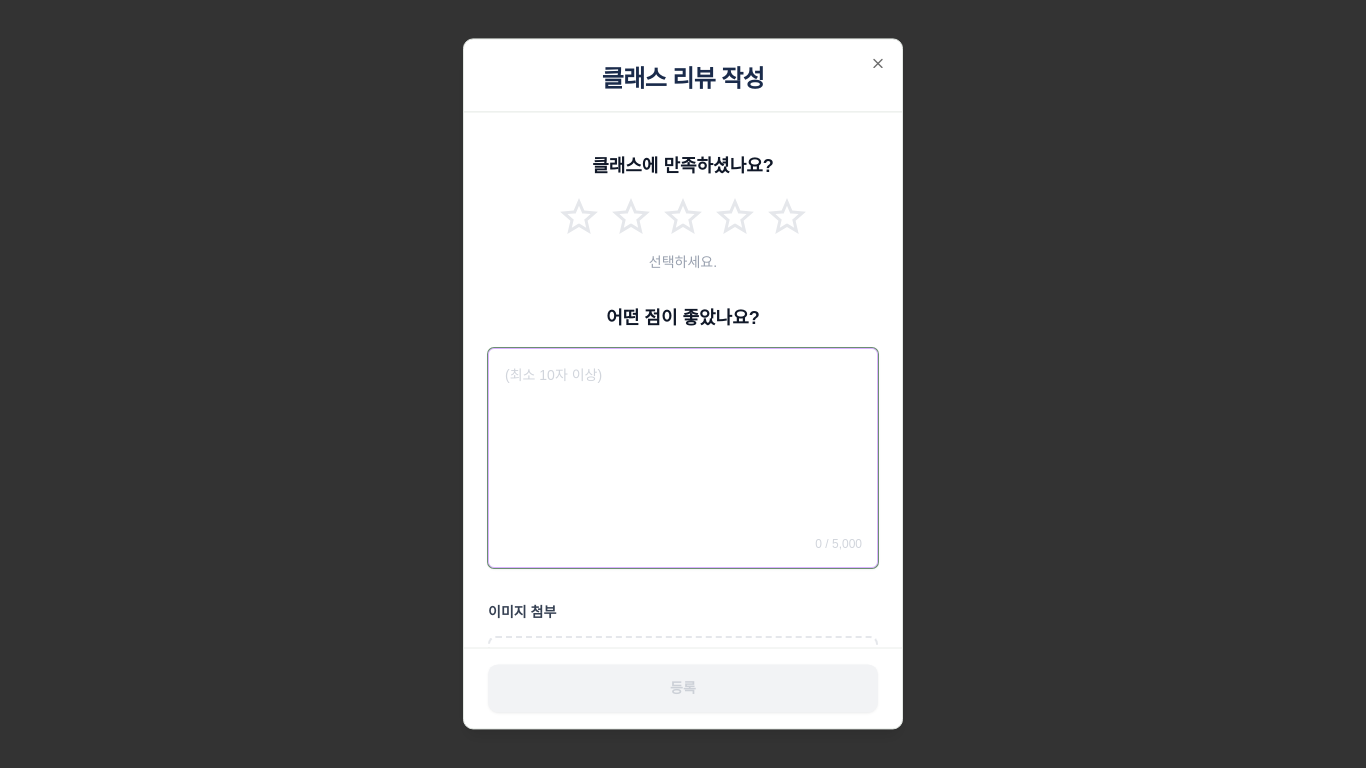
Test: MyReviewModal › 1. 별점이 반개씩 입력이 되는가?
The image size is (1366, 768).
expect the text "선택하세요." is shown: met, box x1=649 y1=254 x2=717 y2=270
Click the 1st icon with class "cursor-pointer" at (579, 216), box x1=555 y1=192 x2=603 y2=240
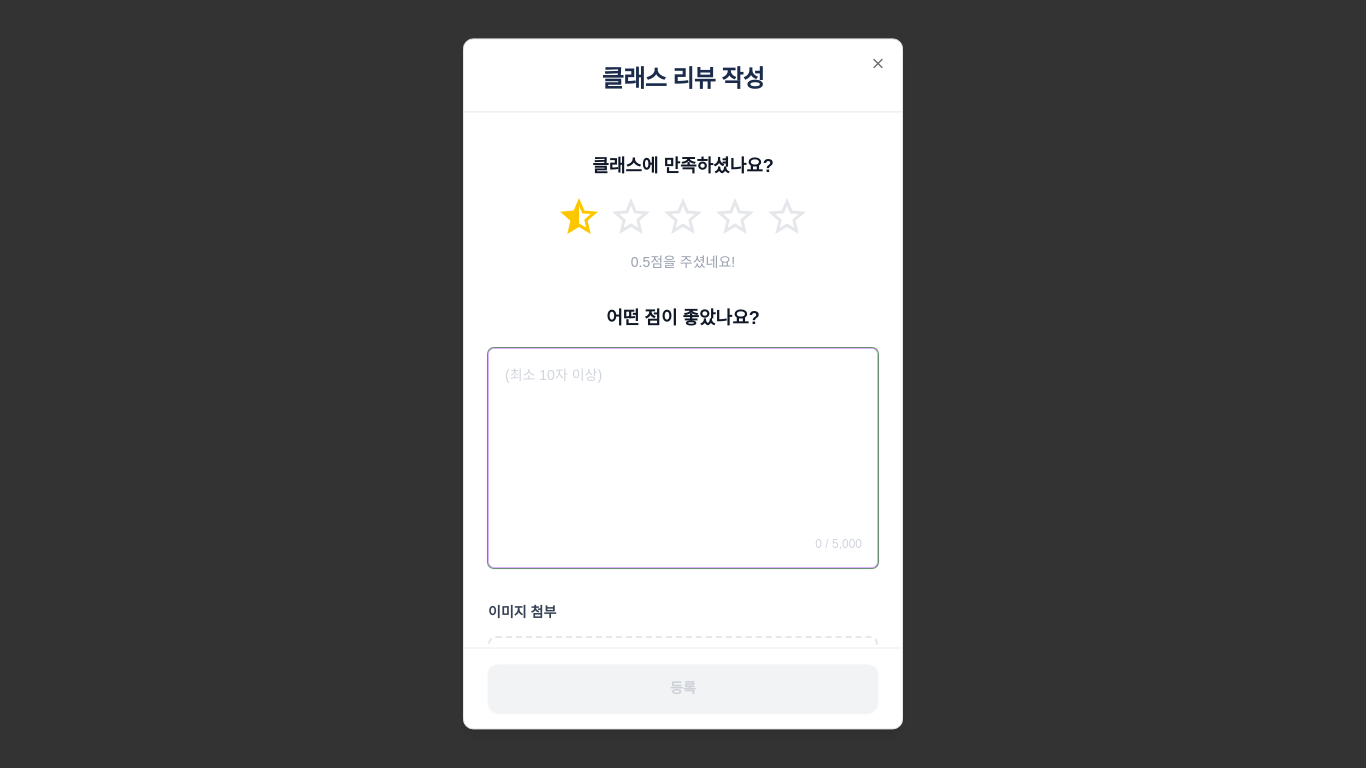
expect the text "0.5점을 주셨네요!" is shown: met, box x1=631 y1=254 x2=735 y2=270
Click the 1st icon with class "cursor-pointer" at (579, 216), box x1=555 y1=192 x2=603 y2=240
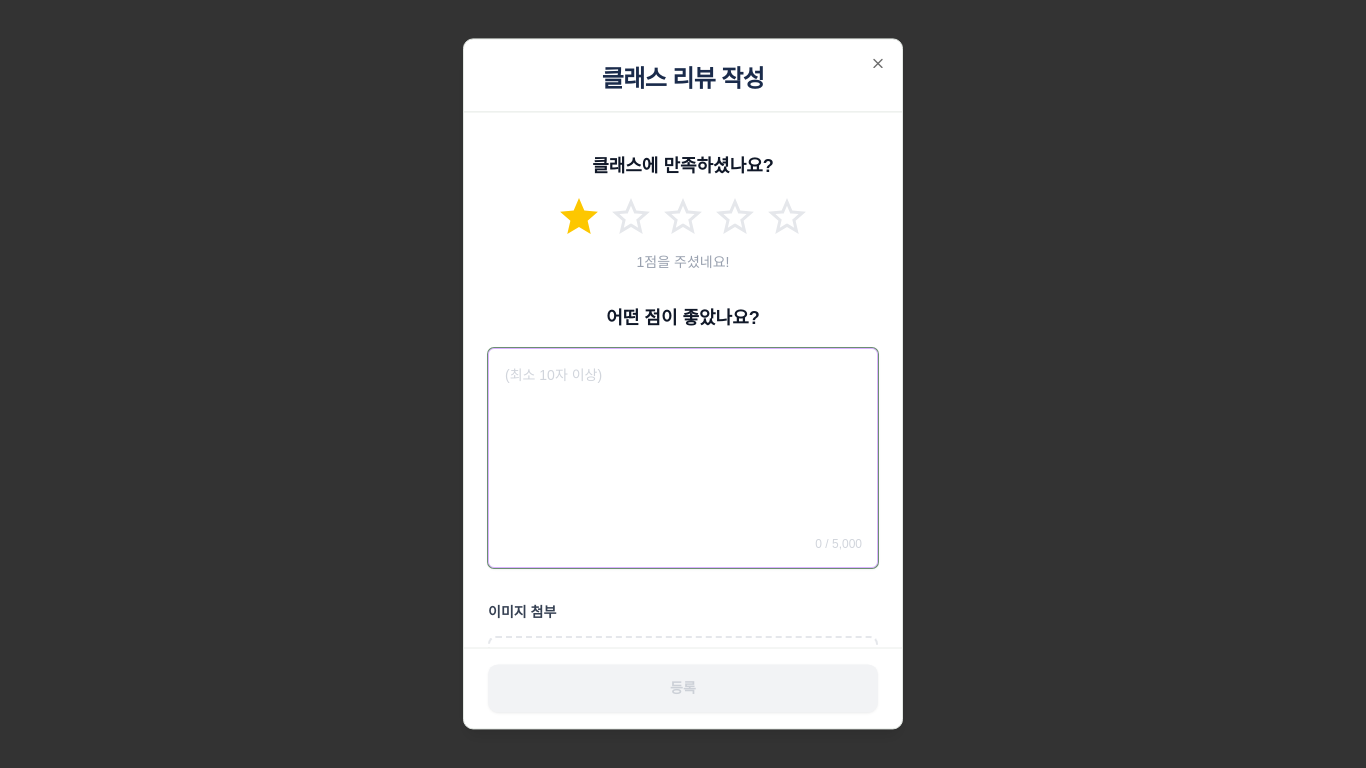
expect the text "1점을 주셨네요!" is shown: met, box x1=637 y1=254 x2=730 y2=270
